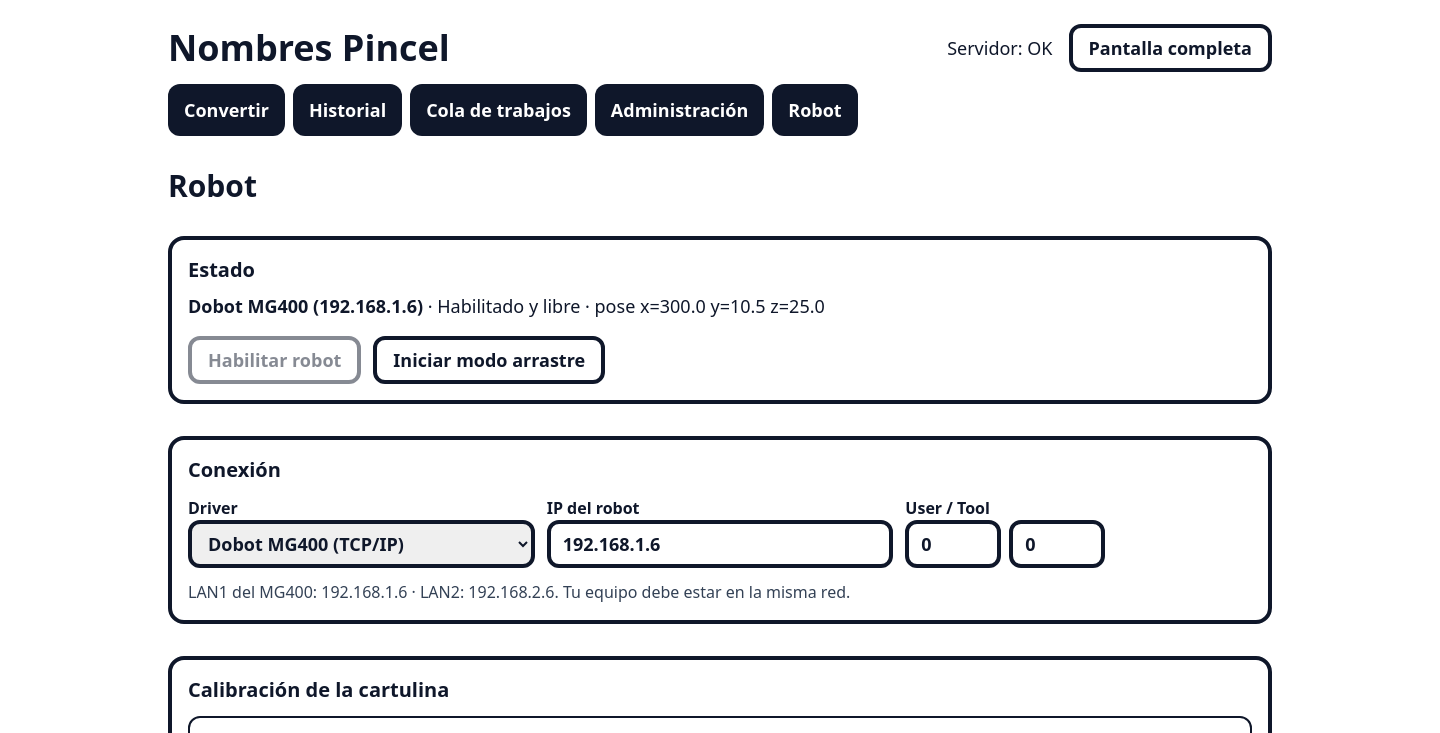
Test: RobotPage: habilitar y modo arrastre › avisa que hay que sujetar el brazo y alterna el modo arrastre
The width and height of the screenshot is (1440, 733).
Click the button "Iniciar modo arrastre".
click(489, 360)  # box [373,336,605,384]
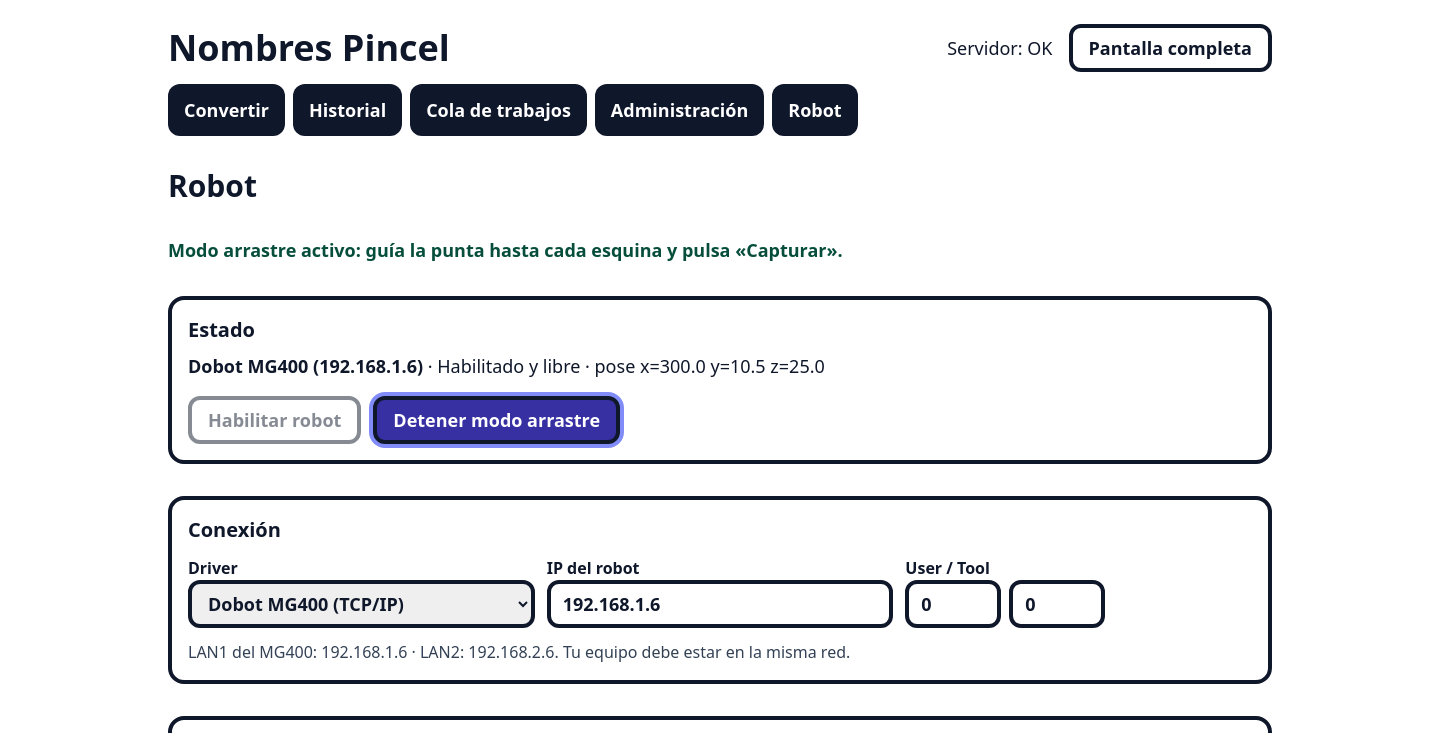
Click the button "Detener modo arrastre".
click(497, 420)  # box [373,396,620,444]
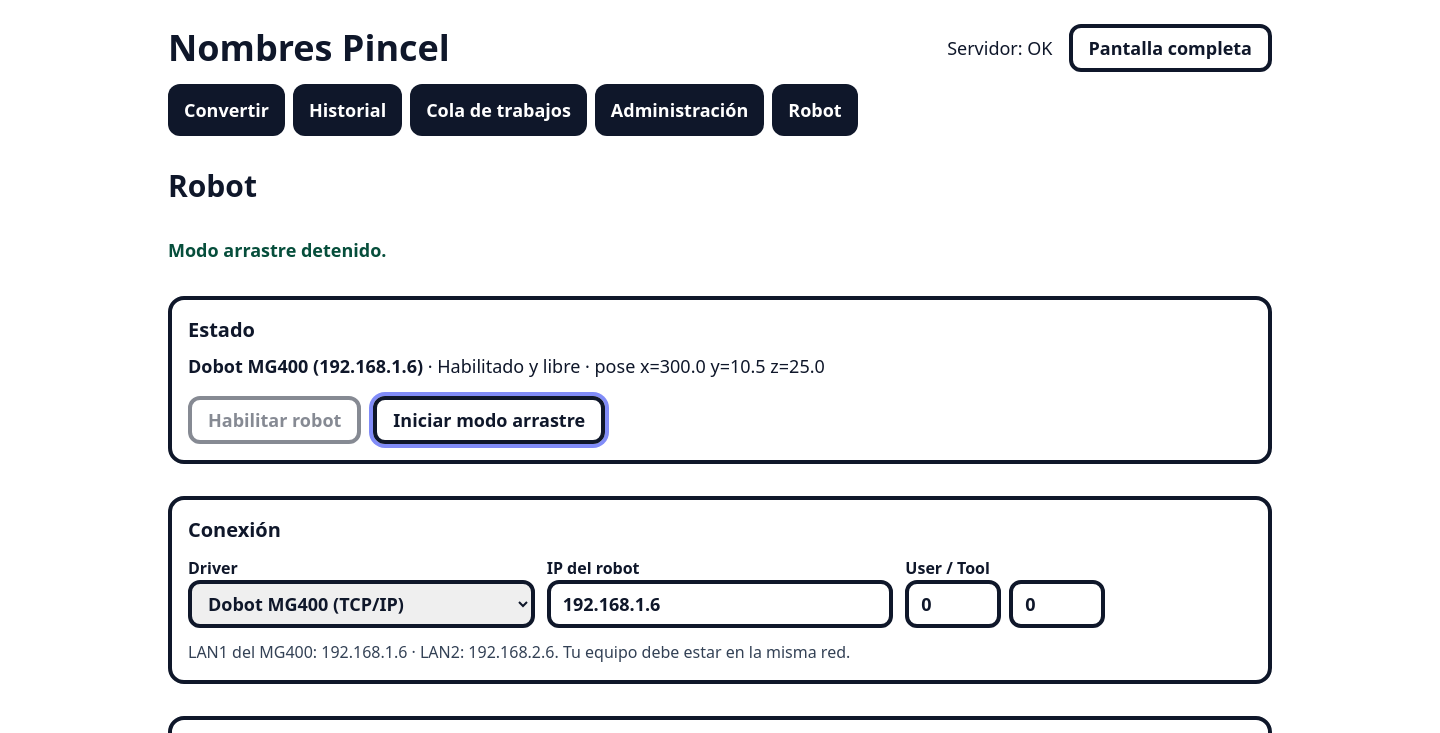
Expected: the button "Iniciar modo arrastre" is shown, [373,396,605,444]
